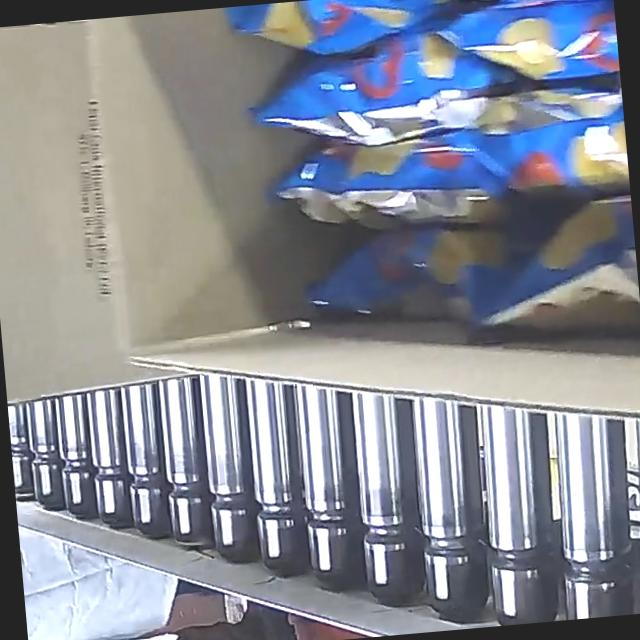paprika: (220, 0, 640, 352)
